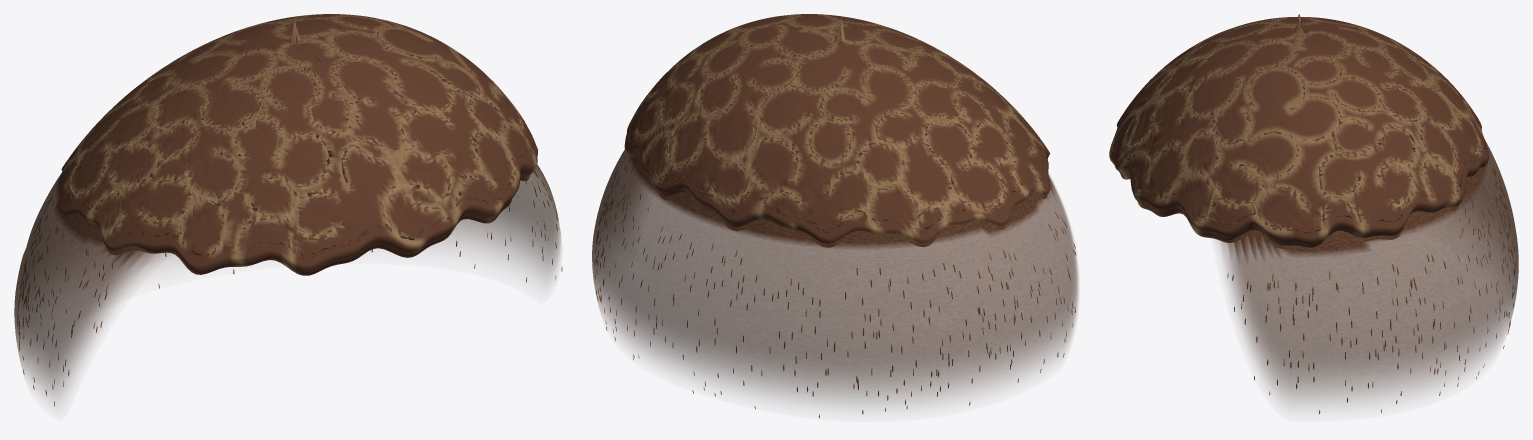
The model's file is Highlights-4339b54c10f4251-hair.glb.
3 renders of one model, left to right at view 1: azimuth 30°, elevation 25°; view 2: azimuth 150°, elevation 25°; view 3: azimuth 270°, elevation 25°, orthographic. The views are drawn at different scales.
Visible parts, largest first — view 1: 226 hair / Hair / sculpted curly crown251.001, 226 hair / Hair / clipped grain251.001, 226 hair / Hair / close cut strokes251.001; view 2: 226 hair / Hair / clipped grain251.001, 226 hair / Hair / sculpted curly crown251.001, 226 hair / Hair / close cut strokes251.001; view 3: 226 hair / Hair / sculpted curly crown251.001, 226 hair / Hair / clipped grain251.001, 226 hair / Hair / close cut strokes251.001.
Boxes of the visible parts, left/top/right/bottom form: 226 hair / Hair / sculpted curly crown251.001: left=59, top=14, right=537, bottom=275; 226 hair / Hair / clipped grain251.001: left=14, top=164, right=560, bottom=401; 226 hair / Hair / close cut strokes251.001: left=17, top=170, right=562, bottom=406; 226 hair / Hair / clipped grain251.001: left=592, top=149, right=1078, bottom=406; 226 hair / Hair / sculpted curly crown251.001: left=624, top=14, right=1050, bottom=247; 226 hair / Hair / close cut strokes251.001: left=595, top=157, right=1076, bottom=418; 226 hair / Hair / sculpted curly crown251.001: left=1109, top=14, right=1489, bottom=248; 226 hair / Hair / clipped grain251.001: left=1218, top=140, right=1518, bottom=405; 226 hair / Hair / close cut strokes251.001: left=1227, top=167, right=1515, bottom=414.
Size of the model in its own units: 0.9812 by 0.6603 by 0.7771.
Materials: 3 (1 with a texture image).
